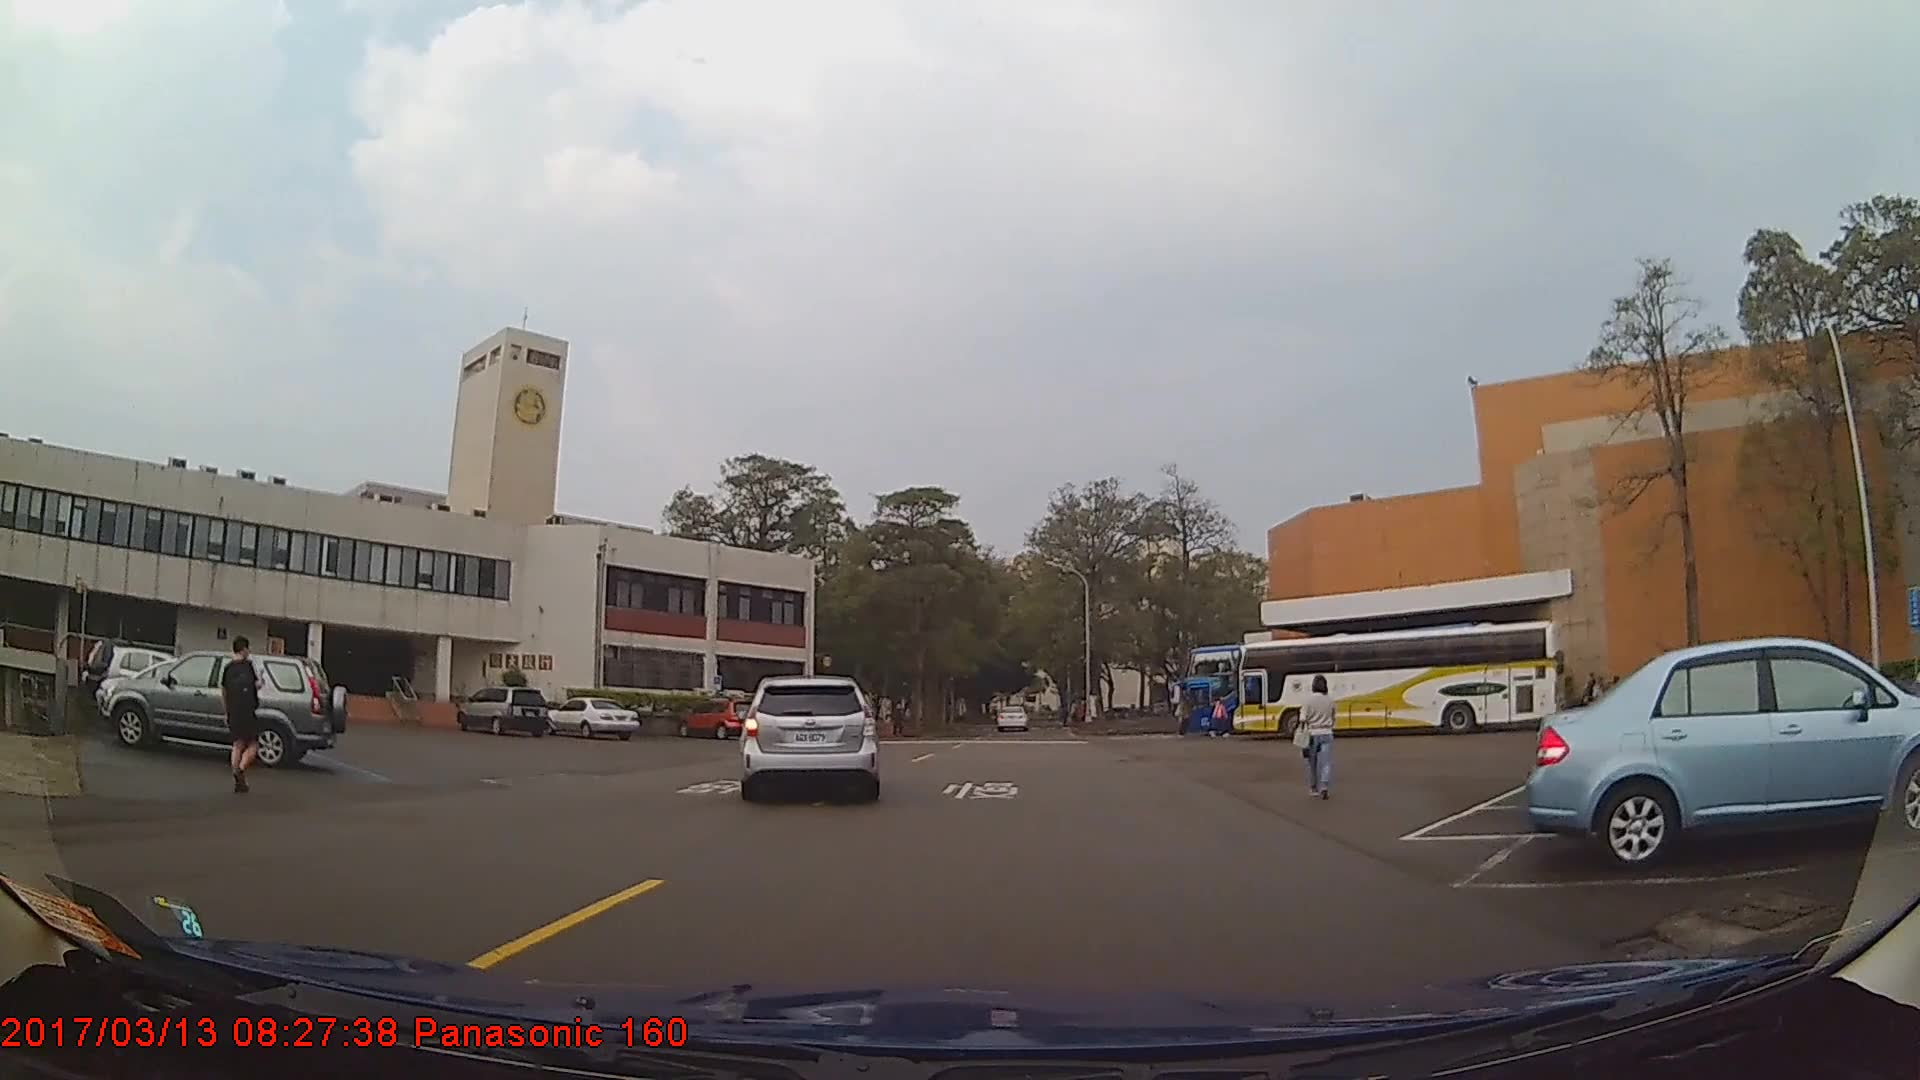pedestrian: (217, 635, 269, 794), (1294, 672, 1339, 797)
vehicle: (1531, 632, 1920, 874), (1232, 617, 1564, 741), (102, 652, 351, 768), (1179, 645, 1448, 737), (741, 674, 876, 801), (457, 685, 549, 738), (543, 694, 642, 740), (674, 697, 758, 739), (997, 705, 1029, 732)
